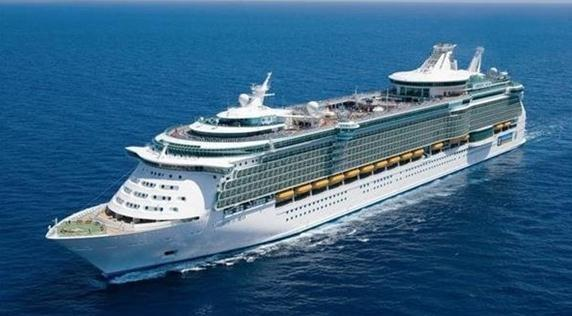Ship: (53, 60, 544, 274)
